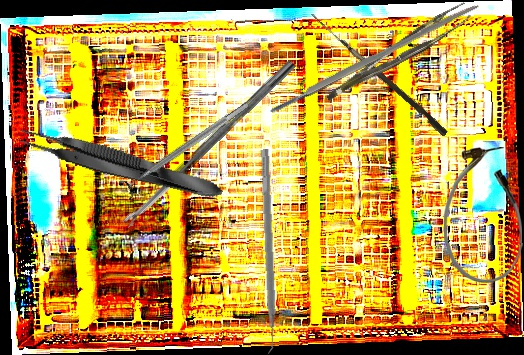Cannula: (442, 146, 524, 284)
Fixation Ring: (116, 94, 255, 202)
Hook Surgical: (305, 13, 451, 137)
Scalpel Handle: (266, 0, 481, 116)
Spatula Surgical: (251, 149, 280, 355)
Surgical Spoon: (120, 58, 297, 229)
Tissue Forceps: (15, 121, 226, 208), (316, 2, 477, 101)
